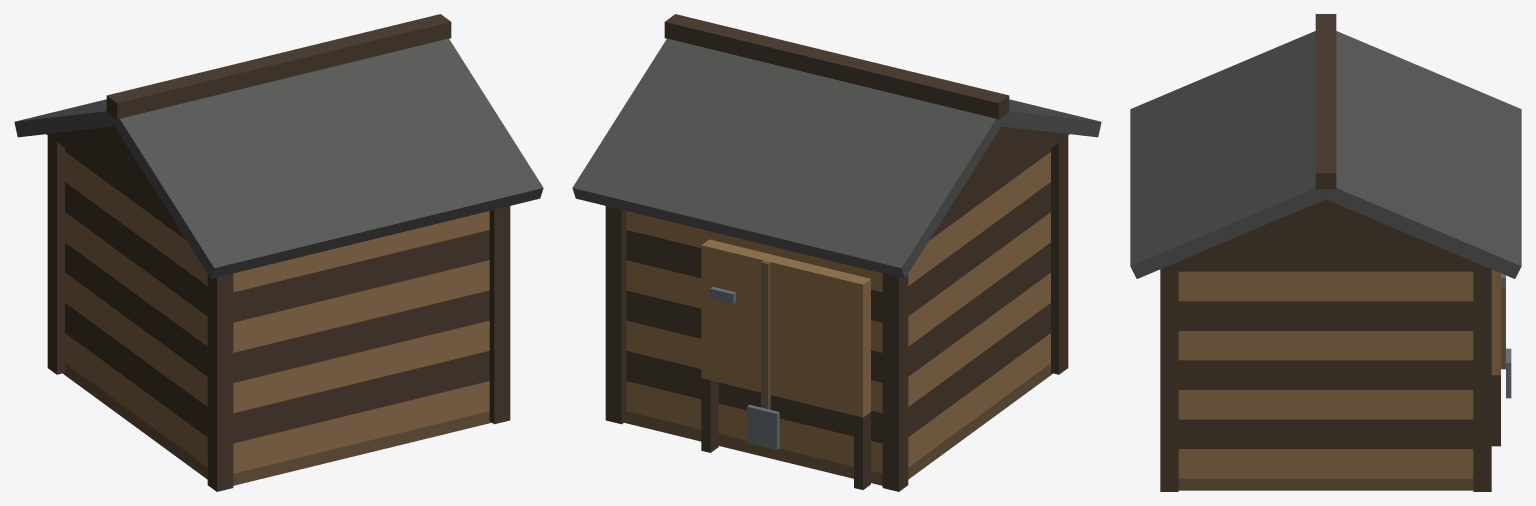
The model's file is shed.glb.
The picture shows the model from 3 angles, left to right: view 1: azimuth 30°, elevation 25°; view 2: azimuth 150°, elevation 25°; view 3: azimuth 270°, elevation 25°; orthographic projection. The views are drawn at different scales.
Parts seen in each view (by area): view 1: shed; view 2: shed; view 3: shed.
Boxes of the visible parts, box(x1,y1,x2,y2) form: shed: box(14, 14, 543, 491); shed: box(572, 14, 1101, 491); shed: box(1130, 14, 1521, 491).
Size of what is drawn, in the model's own units: 2.89 by 2.8 by 3.
Materials: 1 (1 with a texture image).
